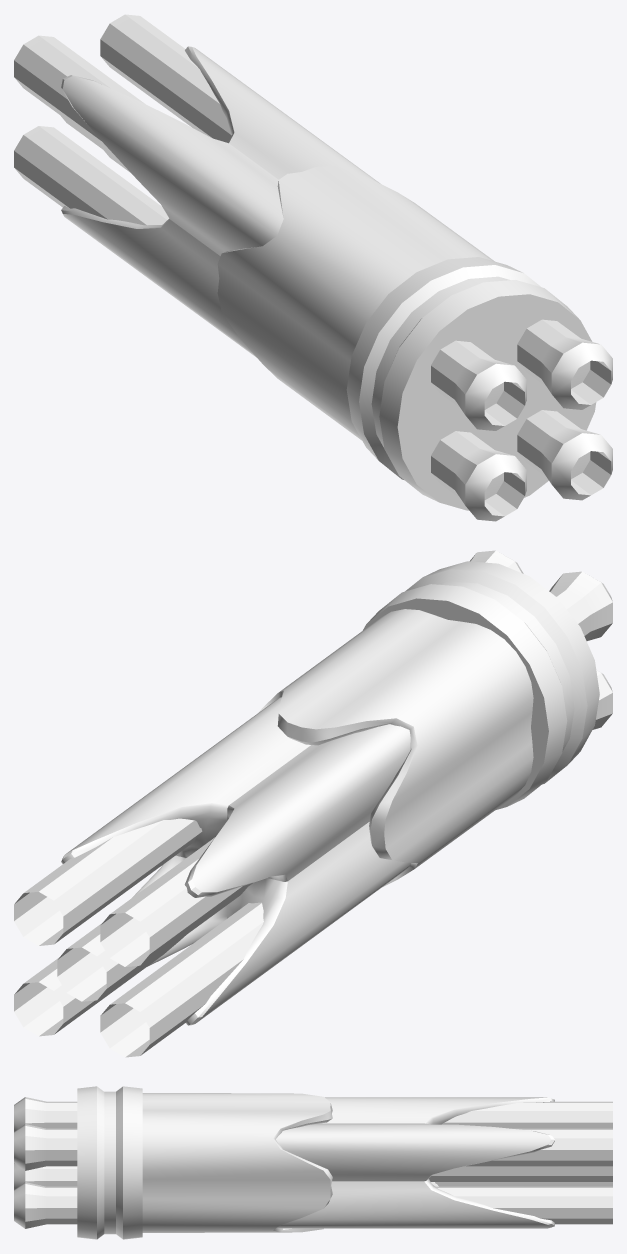
Rendered from minigun.fbx.
3 views of the same model, one above another, from view 1: azimuth 30°, elevation 25°; view 2: azimuth 150°, elevation 25°; view 3: azimuth 270°, elevation 25° (orthographic). The views are drawn at different scales.
Parts seen in each view (by area): view 1: miniGun; view 2: miniGun; view 3: miniGun.
Boxes of the visible parts, x1=… form: miniGun: x1=14, y1=14, x2=612, y2=521; miniGun: x1=14, y1=550, x2=612, y2=1057; miniGun: x1=14, y1=1086, x2=612, y2=1239.
Bounding box in the file's own units: 19.32 × 19.32 × 74.88.
1 material, 1 textured.
